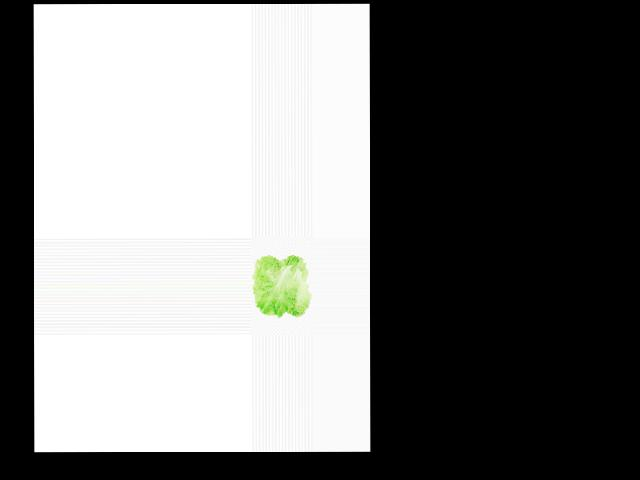lettuce: (250, 250, 313, 322)
